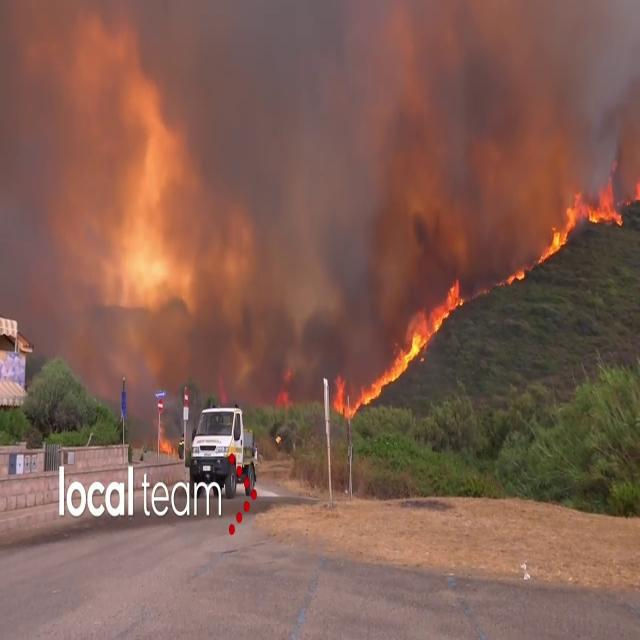Fire: (544, 174, 624, 260), (400, 276, 464, 376), (334, 360, 392, 427)
Smoke: (11, 0, 640, 396)
